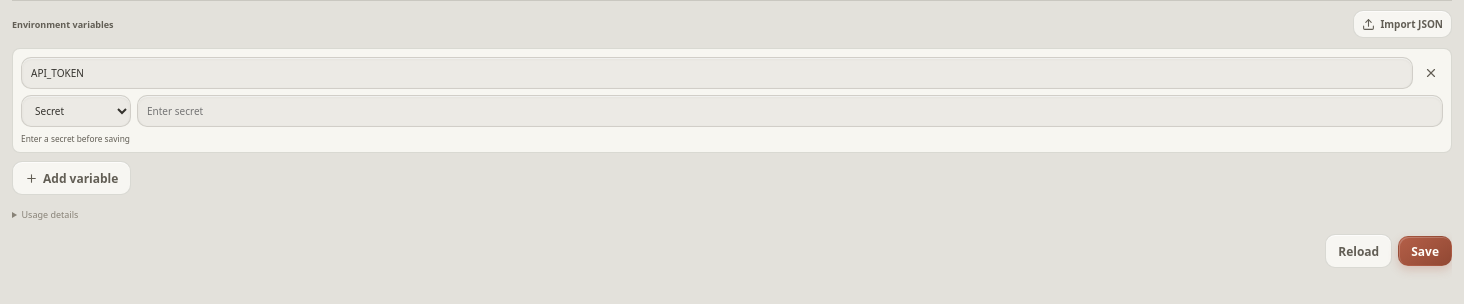
it: environment secret save › identifies an unfilled secret by variable name before submitting
Click the button "Save" at (1425, 251), box [1398,236,1452,266]
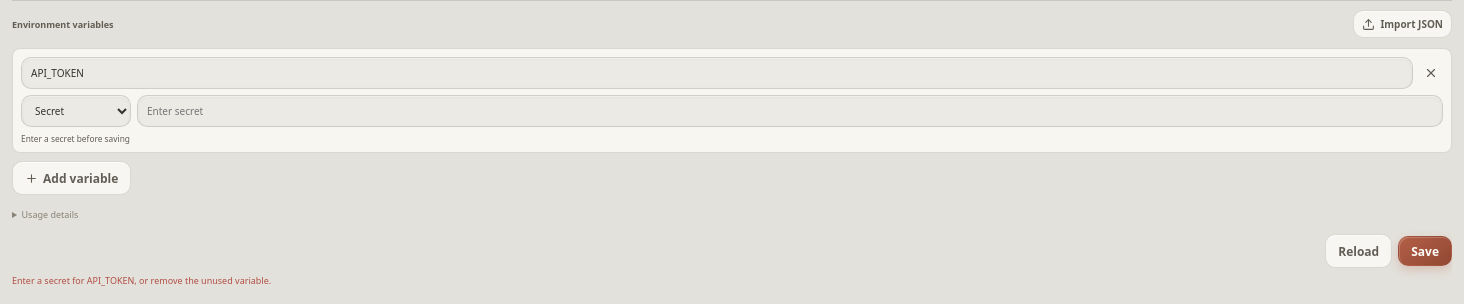
Check: the text "Enter a secret for API_TOKEN, or remove the unused variable." is shown, box [12,274,271,287]
